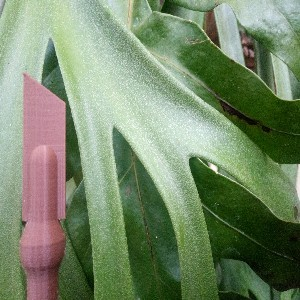cutter: (16, 72, 68, 300)
